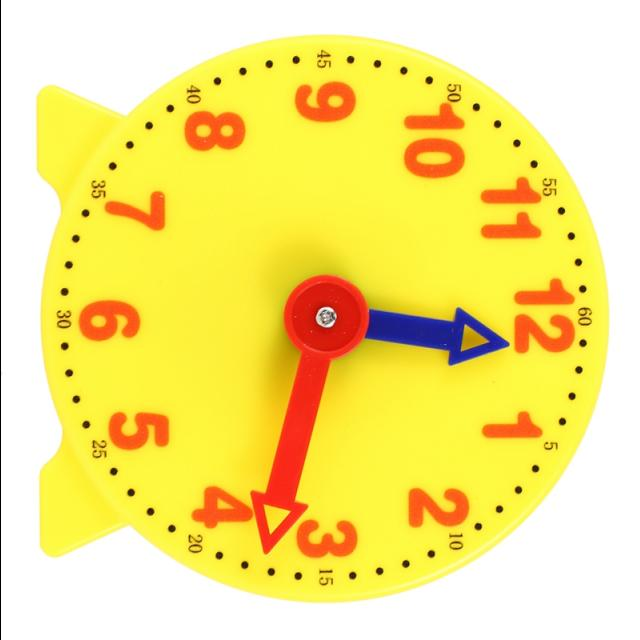clock: (12, 0, 640, 610)
